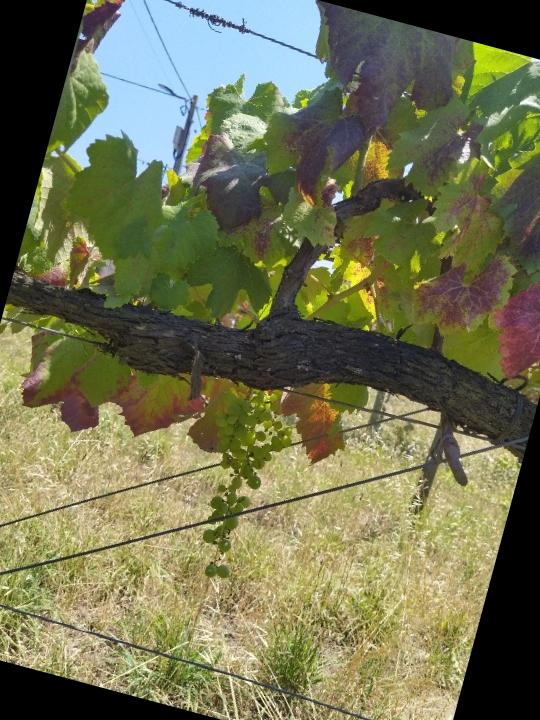grape: (173, 378, 308, 596)
